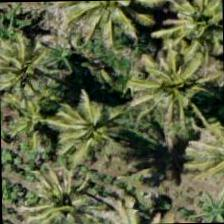Kelapa_Sawit: (128, 43, 220, 135), (46, 81, 138, 173), (0, 25, 67, 117), (158, 0, 223, 76)
